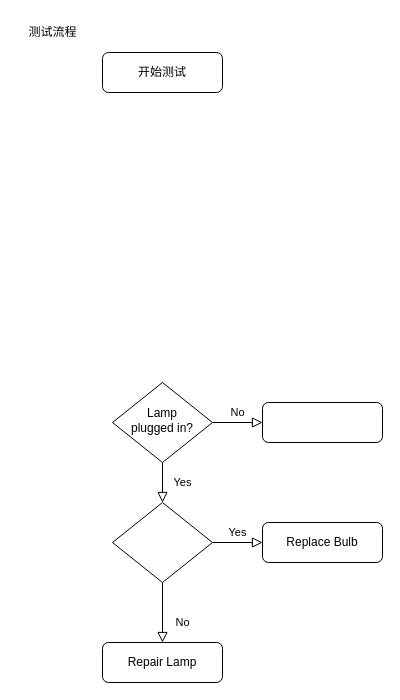
Image size: 400x700. Some labels were removed from this diagram. The shapes that lost their labels are listed below. From the top down, each one's centre as x and y in pixels, then its label:
At point 322,422: "Plug in lamp".
At point 162,542: "Bulb burned out?".
